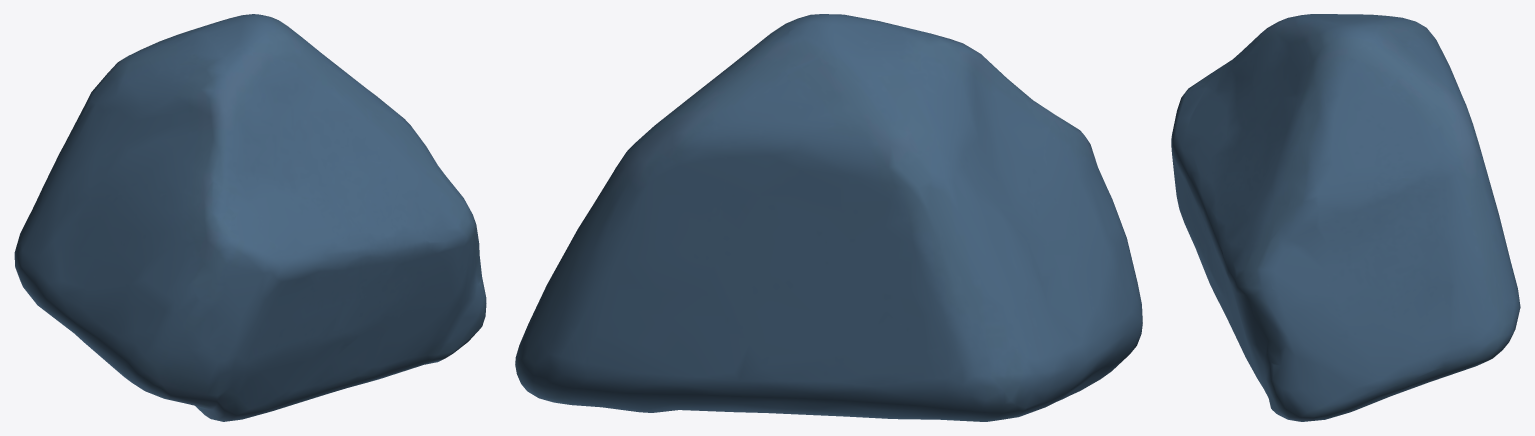
The model's file is stone-01.glb.
3 renders of one model, left to right at view 1: azimuth 30°, elevation 25°; view 2: azimuth 150°, elevation 25°; view 3: azimuth 270°, elevation 25°, orthographic. The views are drawn at different scales.
Visible parts, largest first — view 1: tripo_node_da0c88b7-c06d-4da2-a997-33fe82a343c9; view 2: tripo_node_da0c88b7-c06d-4da2-a997-33fe82a343c9; view 3: tripo_node_da0c88b7-c06d-4da2-a997-33fe82a343c9.
Boxes of the visible parts, left/top/right/bottom form: tripo_node_da0c88b7-c06d-4da2-a997-33fe82a343c9: left=14, top=14, right=486, bottom=421; tripo_node_da0c88b7-c06d-4da2-a997-33fe82a343c9: left=515, top=14, right=1142, bottom=421; tripo_node_da0c88b7-c06d-4da2-a997-33fe82a343c9: left=1171, top=14, right=1520, bottom=421.
Bounding box in the file's own units: 1 × 0.8058 × 0.7877.
Materials: 1 (1 with a texture image).
